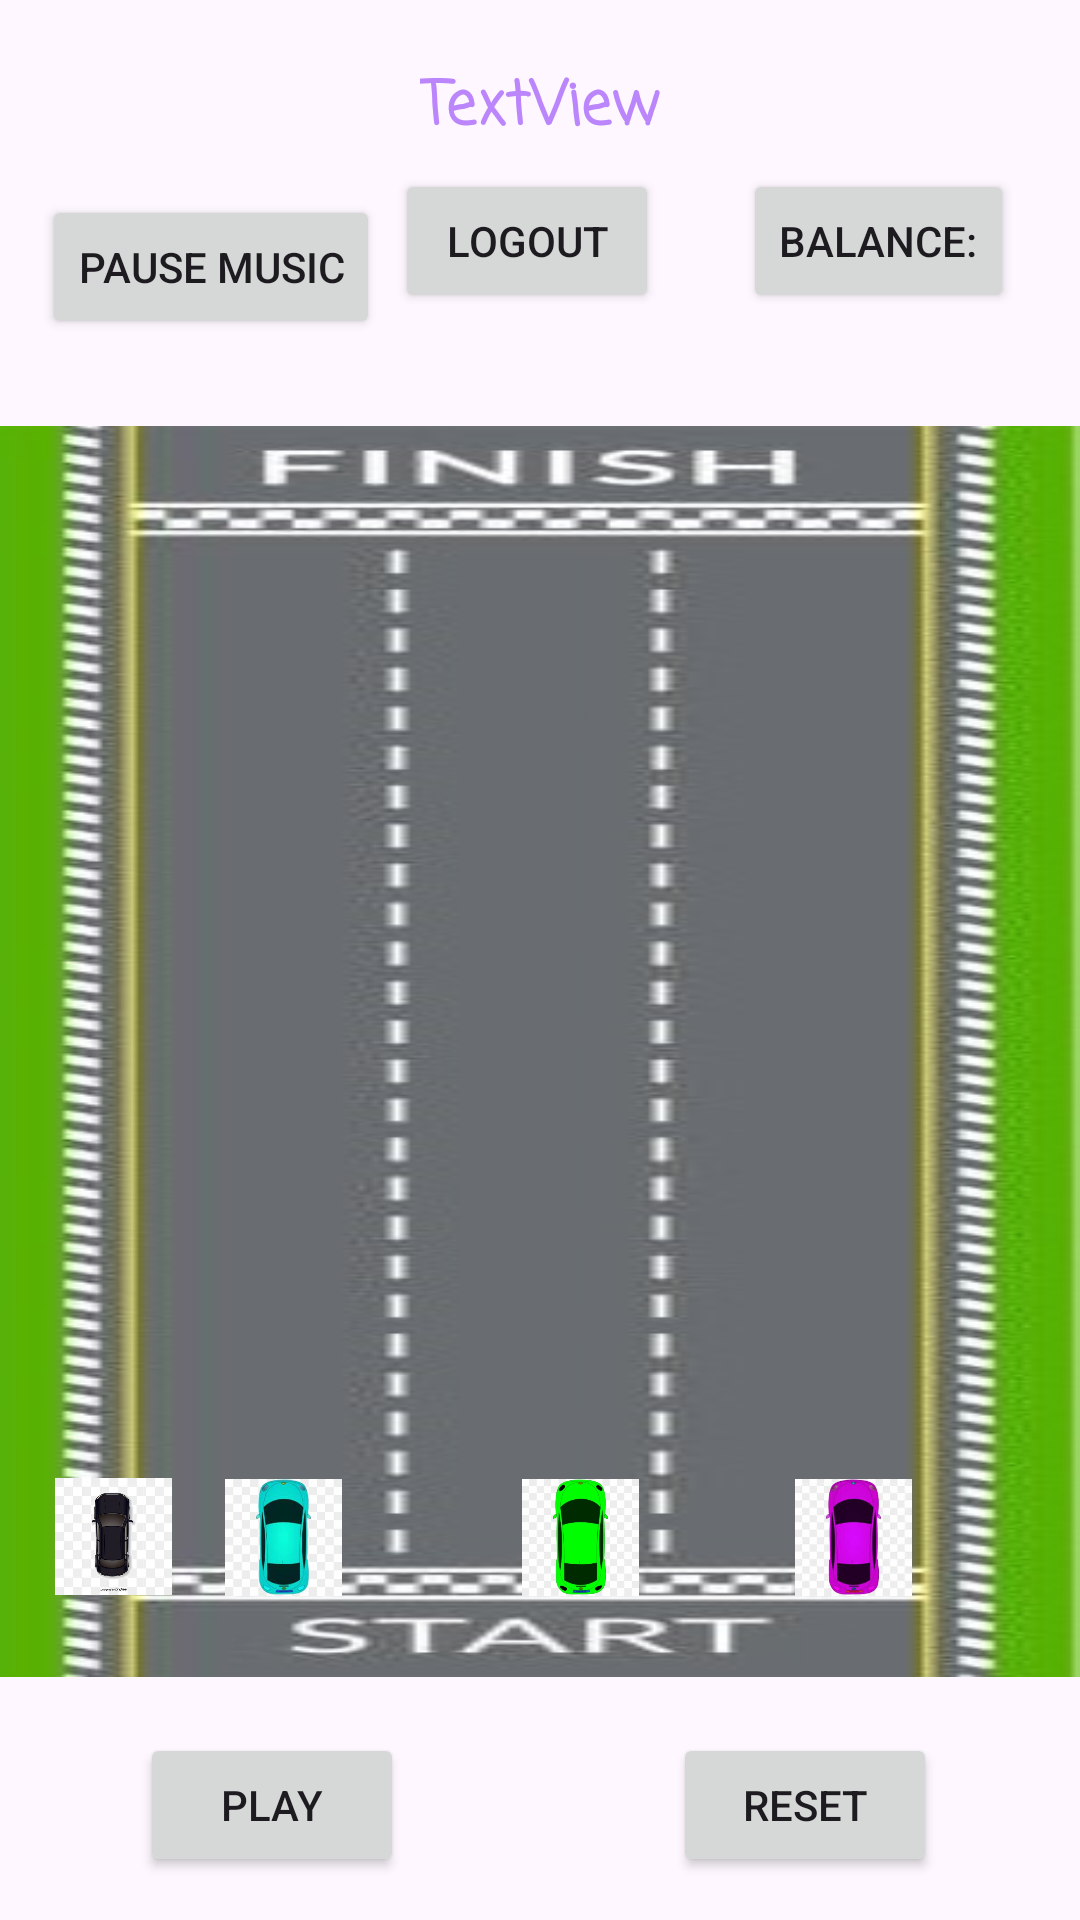

Icon bounding boxes for this 1080x1920 phone screenshot, format (x1,y1,x2,y2):
bluecar: (225,1479,342,1602)
greencar: (522,1479,639,1602)
purplecar: (795,1479,912,1607)
